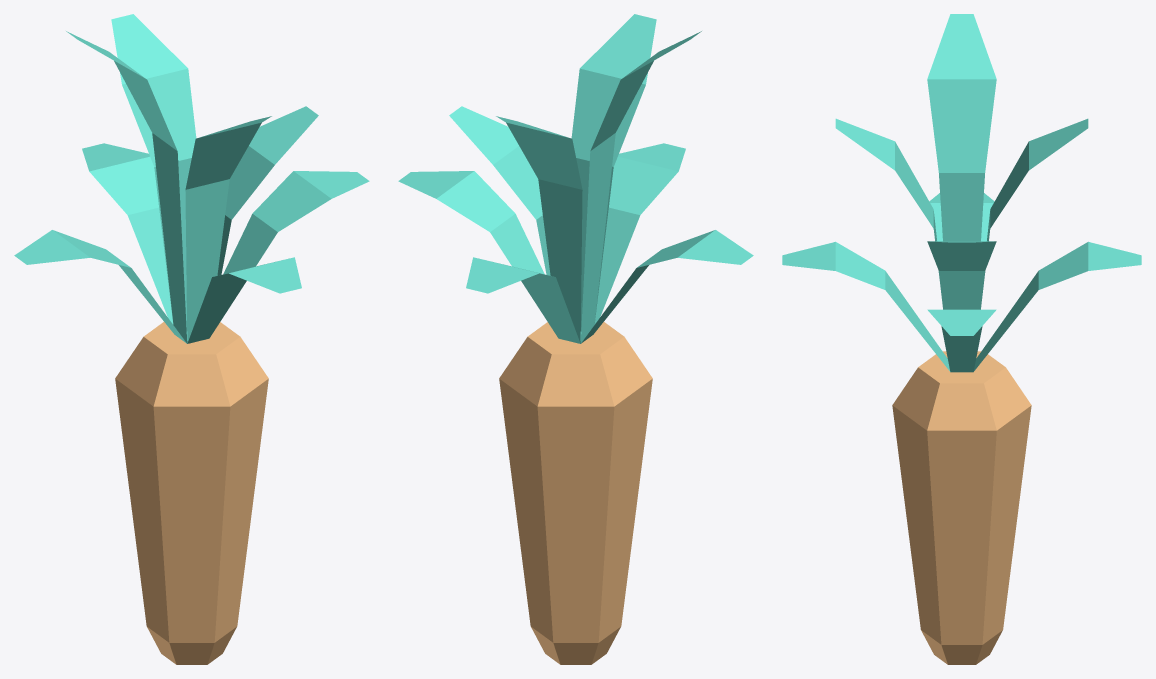
The model's file is crop_carrot.glb.
The picture shows the model from 3 angles, left to right: view 1: azimuth 30°, elevation 25°; view 2: azimuth 150°, elevation 25°; view 3: azimuth 270°, elevation 25°; orthographic projection. The views are drawn at different scales.
Parts seen in each view (by area): view 1: crop_carrot; view 2: crop_carrot; view 3: crop_carrot.
Boxes of the visible parts, box(x1,y1,x2,y2) form: crop_carrot: box(14, 14, 369, 664); crop_carrot: box(398, 14, 753, 664); crop_carrot: box(782, 14, 1141, 664).
Bounding box in the file's own units: 0.3431 × 0.6194 × 0.3431.
